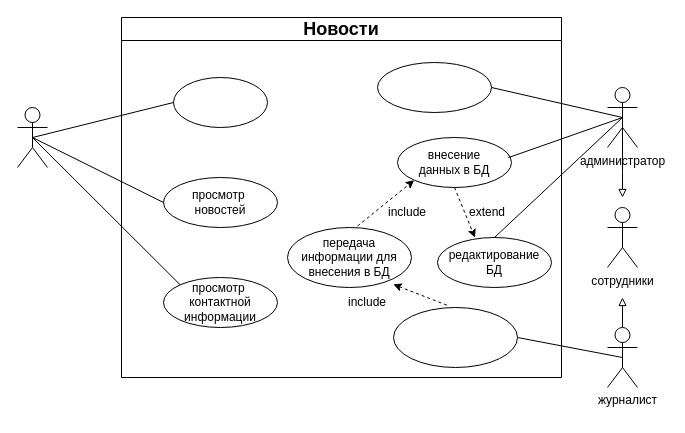
Some shapes in this 685 by 433 pixel diagram are drawn without their labels. Each missing label, with the box of its shape:
гость: (16, 106, 48, 168)
зайти на сайт: (172, 76, 268, 128)
написание новостных статей: (392, 306, 518, 368)
техническое обслуживание сайта: (376, 62, 492, 112)
